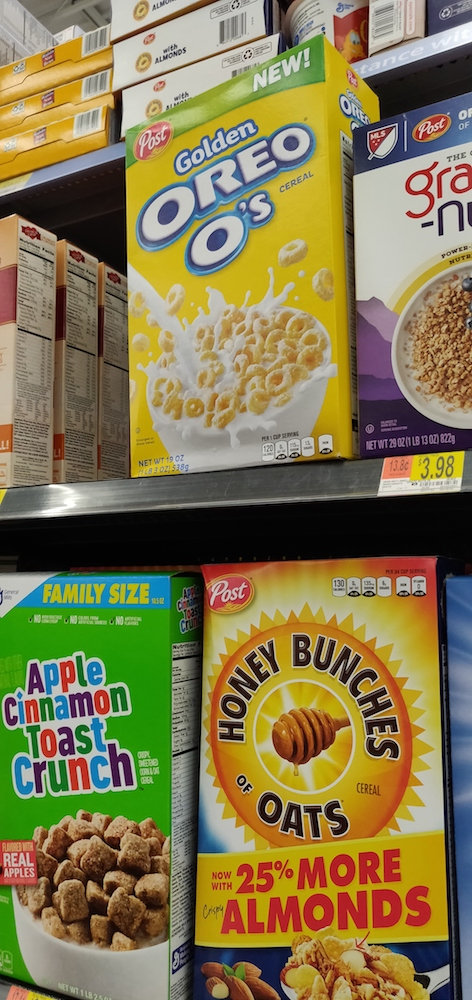Oreo Golden-568301011: (117, 62, 347, 464)
